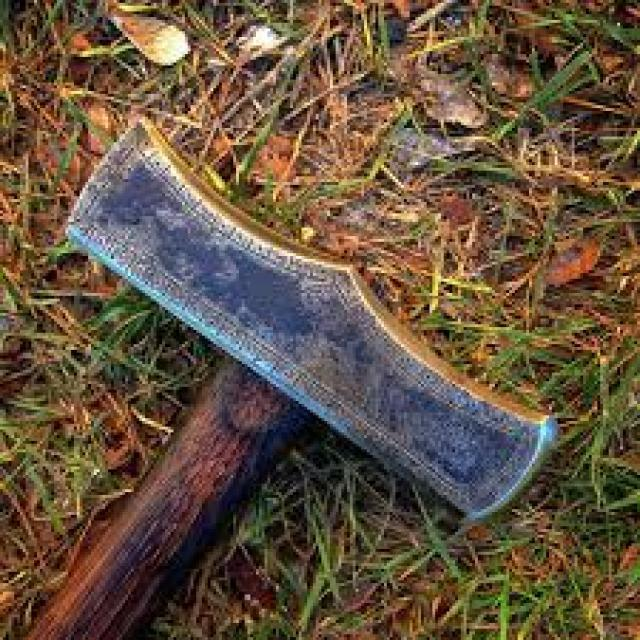hammer: (11, 114, 572, 640)
